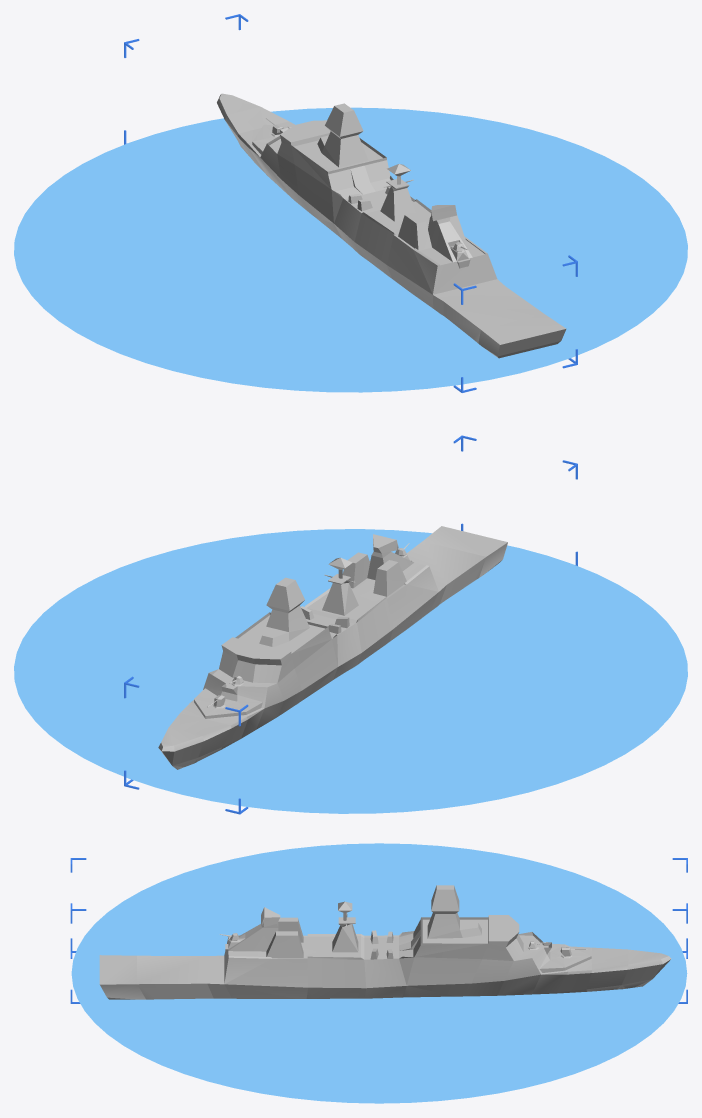
File: MilitaryCutter.glb
3 renders of one model, top to bottom at view 1: azimuth 30°, elevation 25°; view 2: azimuth 150°, elevation 25°; view 3: azimuth 270°, elevation 25°, orthographic. The views are drawn at different scales.
Visible parts, largest first — view 1: WaterPlate, AIS_Military-A002, BoundingBox; view 2: WaterPlate, AIS_Military-A002, BoundingBox; view 3: WaterPlate, AIS_Military-A002, BoundingBox.
Part boxes in pixels (x1=…): WaterPlate: x1=14, y1=107, x2=687, y2=392; AIS_Military-A002: x1=217, y1=93, x2=566, y2=358; BoundingBox: x1=124, y1=14, x2=577, y2=392; WaterPlate: x1=14, y1=529, x2=687, y2=813; AIS_Military-A002: x1=158, y1=526, x2=507, y2=769; BoundingBox: x1=124, y1=435, x2=577, y2=814; WaterPlate: x1=71, y1=843, x2=687, y2=1103; AIS_Military-A002: x1=99, y1=885, x2=671, y2=999; BoundingBox: x1=70, y1=858, x2=687, y2=1003.
Bounding box in the file's own units: 92.55 × 17.22 × 101.
